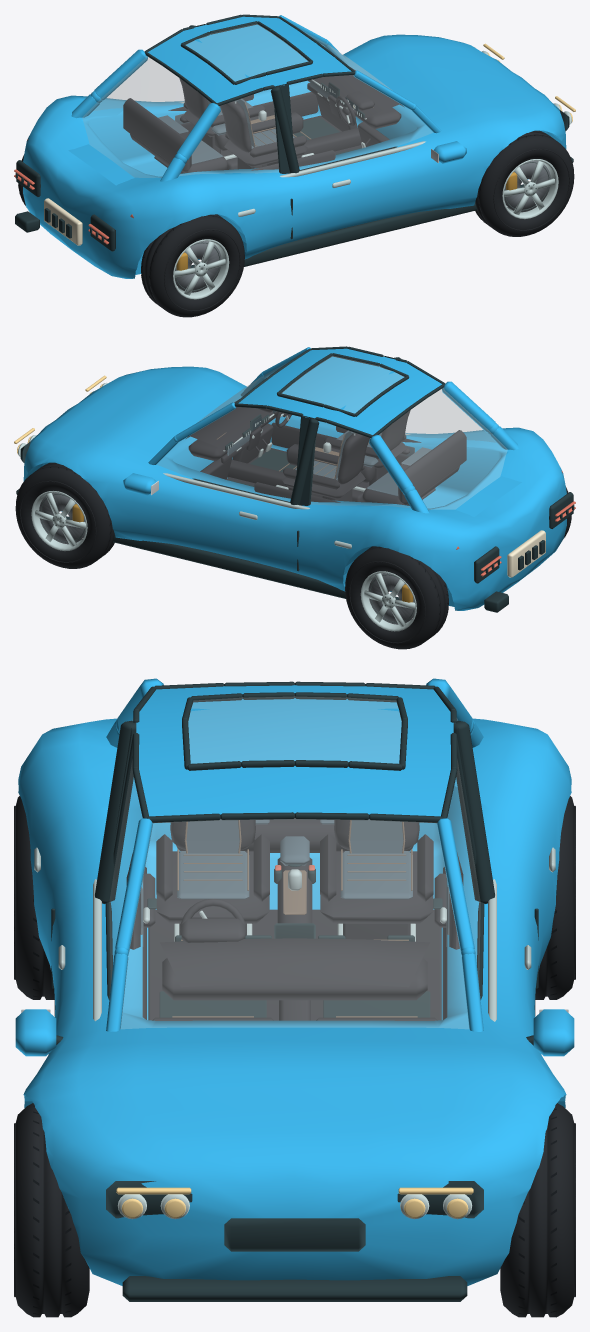
Rendered from compact.glb.
The picture shows the model from 3 angles, top to bottom: view 1: azimuth 30°, elevation 25°; view 2: azimuth 150°, elevation 25°; view 3: azimuth 270°, elevation 25°; orthographic projection. The views are drawn at different scales.
Visible parts, largest first — view 1: Paint compact, Automotive glass.003, Rolling wheels.003, Cabin upholstery.003, Tyre rubber.003, Tailored cabin leather.003, Wheel hubs.003, Warm white trim.003; view 2: Paint compact, Automotive glass.003, Rolling wheels.003, Cabin upholstery.003, Tyre rubber.003, Tailored cabin leather.003, Wheel hubs.003, Warm white trim.003; view 3: Paint compact, Automotive glass.003, Cabin upholstery.003, Tyre rubber.003, Rolling wheels.003, Tailored cabin leather.003, Wheel hubs.003, Seat stitching and console.003, Headlamp.003.
Boxes of the visible parts, <box> form: Paint compact: <box>23,15,566,278</box>; Automotive glass.003: <box>82,24,432,177</box>; Rolling wheels.003: <box>18,130,574,317</box>; Cabin upholstery.003: <box>123,67,404,173</box>; Tyre rubber.003: <box>15,14,573,267</box>; Tailored cabin leather.003: <box>158,80,332,164</box>; Wheel hubs.003: <box>179,50,571,216</box>; Warm white trim.003: <box>44,105,354,245</box>; Paint compact: <box>23,347,566,610</box>; Automotive glass.003: <box>157,356,507,509</box>; Rolling wheels.003: <box>15,462,571,649</box>; Cabin upholstery.003: <box>186,399,466,505</box>; Tyre rubber.003: <box>16,346,574,612</box>; Tailored cabin leather.003: <box>227,430,431,496</box>; Wheel hubs.003: <box>18,382,410,548</box>; Warm white trim.003: <box>507,530,545,577</box>; Paint compact: <box>15,678,574,1285</box>; Automotive glass.003: <box>109,696,480,1028</box>; Cabin upholstery.003: <box>126,818,463,1020</box>; Tyre rubber.003: <box>51,681,538,1301</box>; Rolling wheels.003: <box>14,796,575,1317</box>; Tailored cabin leather.003: <box>140,819,449,946</box>; Wheel hubs.003: <box>34,847,555,1219</box>; Seat stitching and console.003: <box>172,820,417,1017</box>; Headlamp.003: <box>116,1187,473,1218</box>.
Bounding box in the file's own units: 1.94 × 0.7377 × 0.9956.
